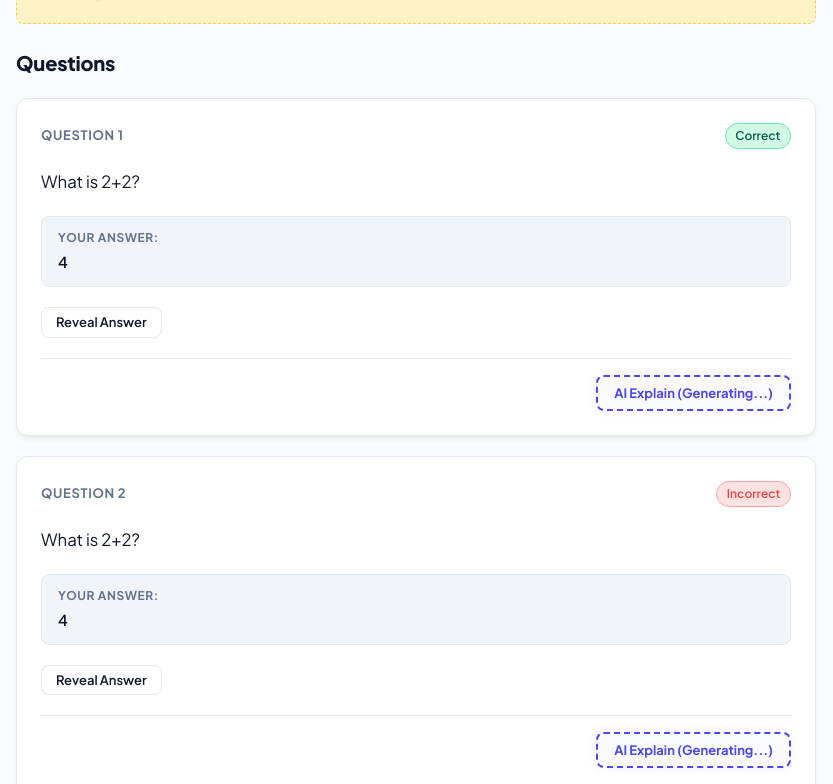
Scenario: ExamDetailPage › shows warning message when AI Explain is clicked while pending/generating in exam detail
This screenshot has width=833, height=784.
(page scrolled)
Click the button with test id "explain-button-item1" at (694, 393), box [596,375,791,411]
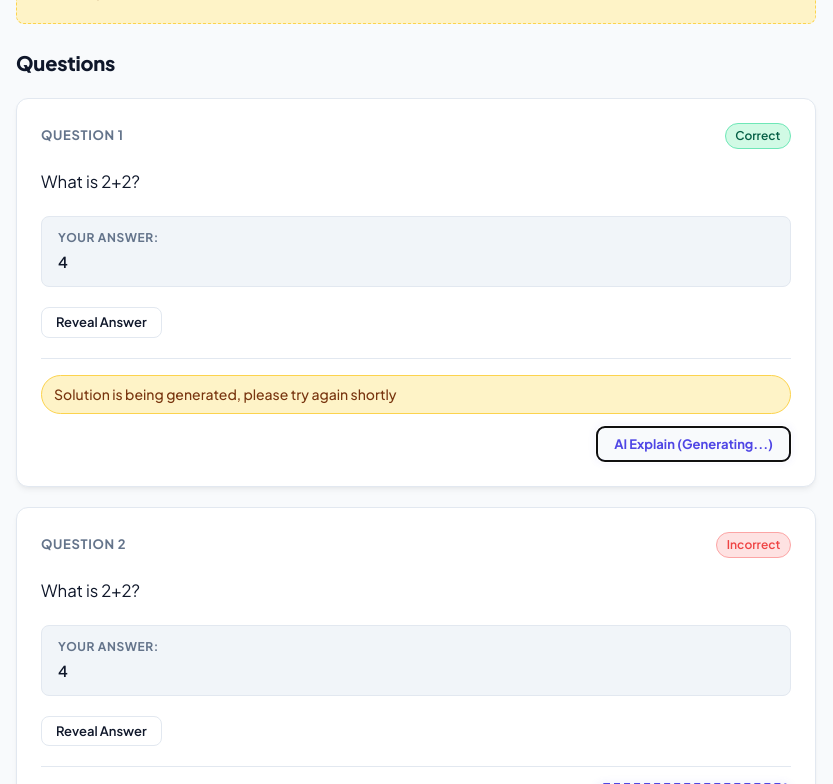
expect the text "Solution is being generated, please try again shortly" is shown: met, box [41,375,791,414]
expect the text with test id "explain-info-message-item1" reads "Solution is being generated, please try again shortly": met, box [54,385,397,403]
